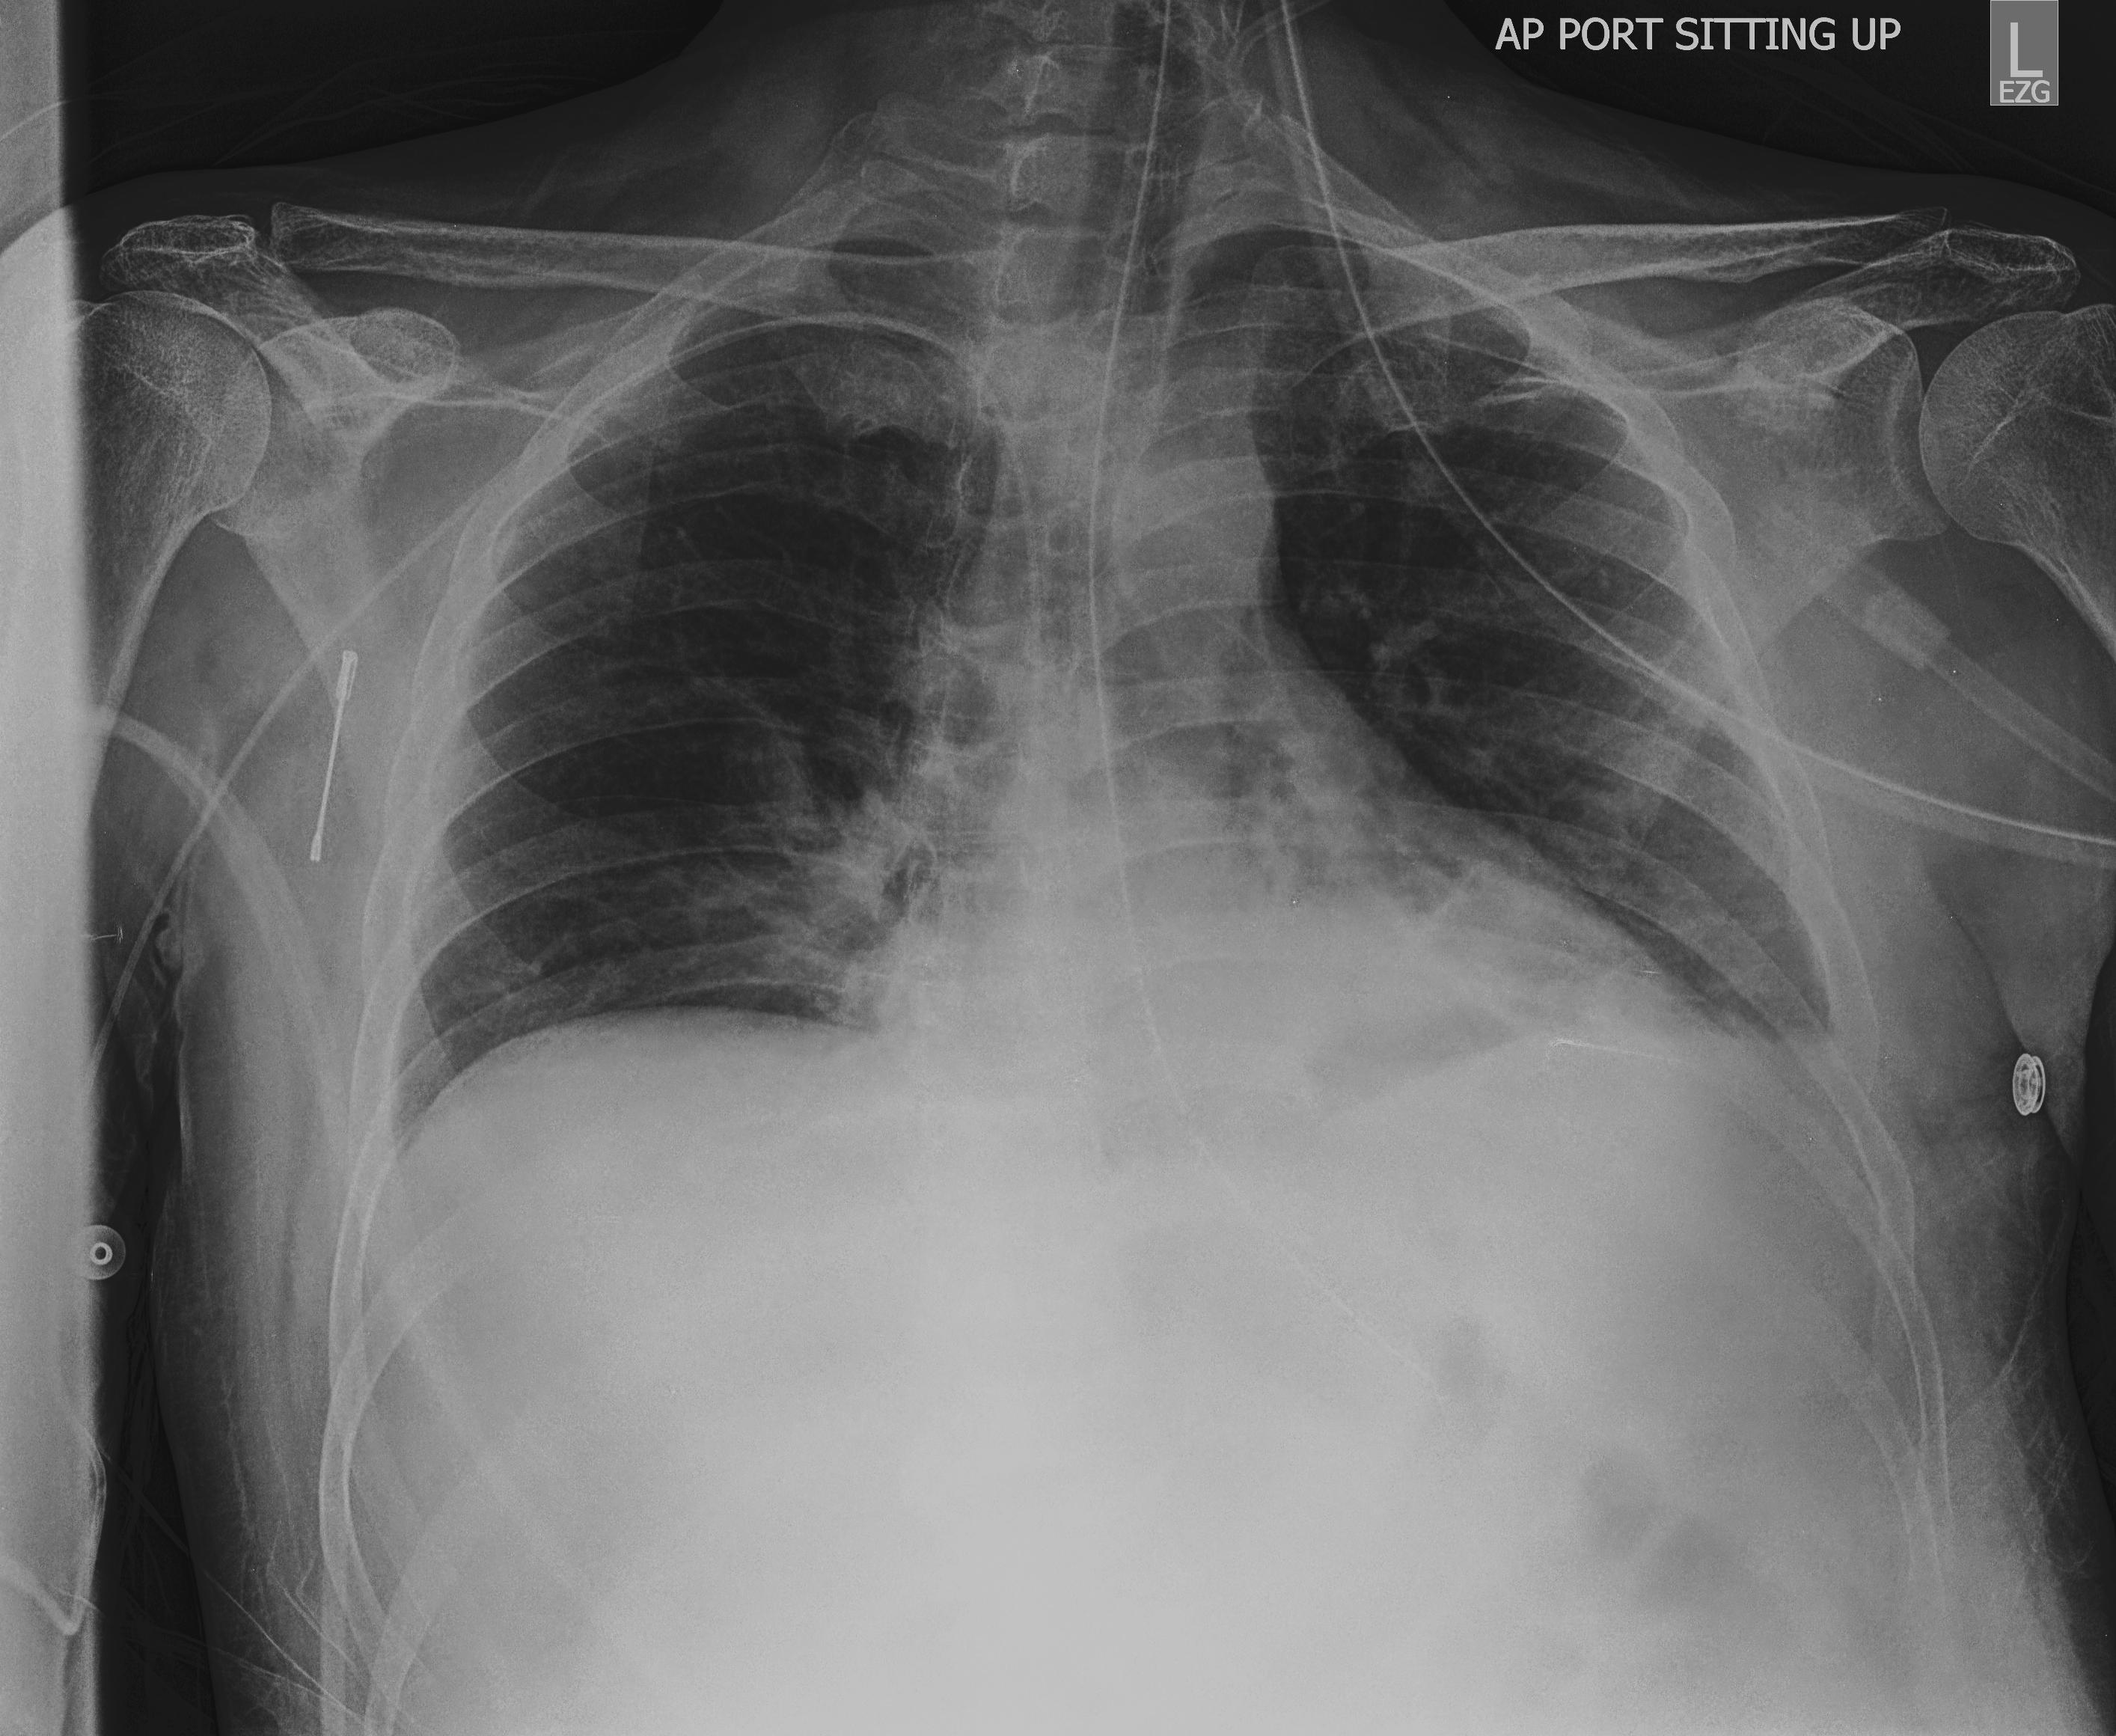Pleural Effusion: (1582, 1024, 1863, 1267)
